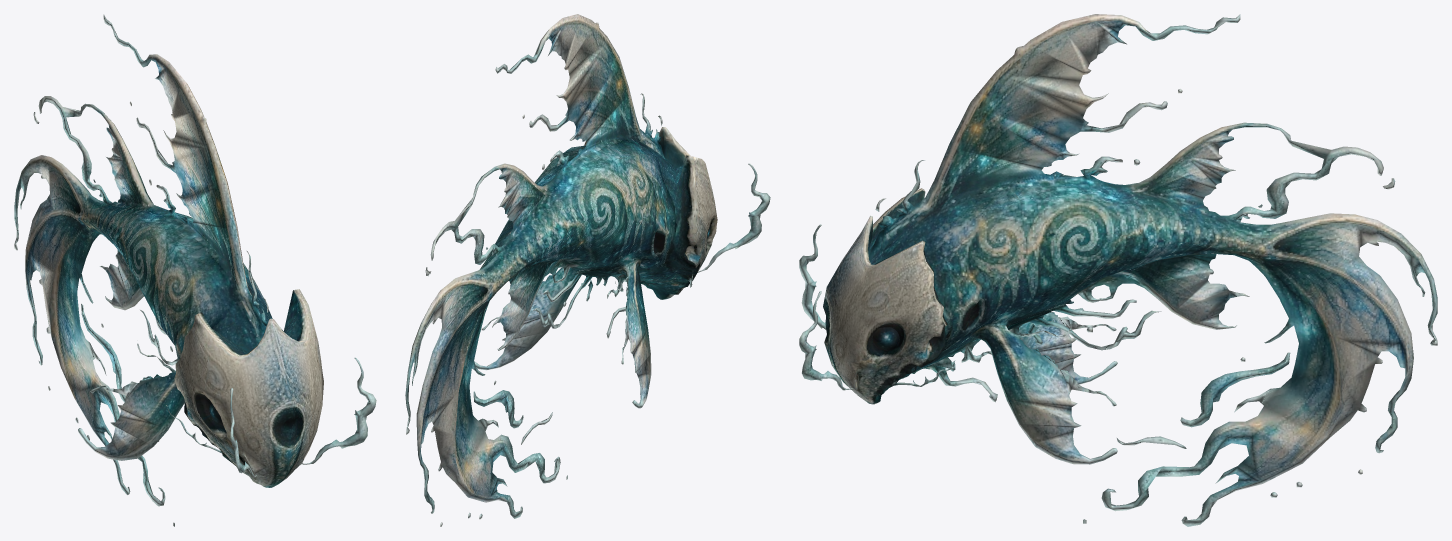
Rendered from hadal-tide-minnow-echo.glb.
The picture shows the model from 3 angles, left to right: view 1: azimuth 30°, elevation 25°; view 2: azimuth 150°, elevation 25°; view 3: azimuth 270°, elevation 25°; orthographic projection. The views are drawn at different scales.
Visible parts, largest first — view 1: tripo_node_d151090d-b01b-4fb2-88be-86dea59947fc; view 2: tripo_node_d151090d-b01b-4fb2-88be-86dea59947fc; view 3: tripo_node_d151090d-b01b-4fb2-88be-86dea59947fc.
Boxes of the visible parts, <box> form: tripo_node_d151090d-b01b-4fb2-88be-86dea59947fc: <box>14,14,376,526</box>; tripo_node_d151090d-b01b-4fb2-88be-86dea59947fc: <box>405,14,770,526</box>; tripo_node_d151090d-b01b-4fb2-88be-86dea59947fc: <box>799,14,1437,526</box>.
Size of the model in its own units: 0.3301 by 0.8848 by 0.998.
1 material, 1 textured.
